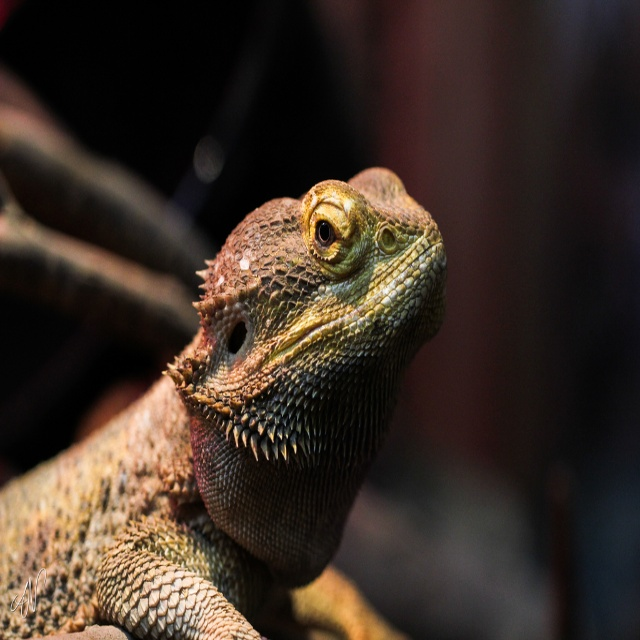Lizard: (0, 167, 447, 640)
